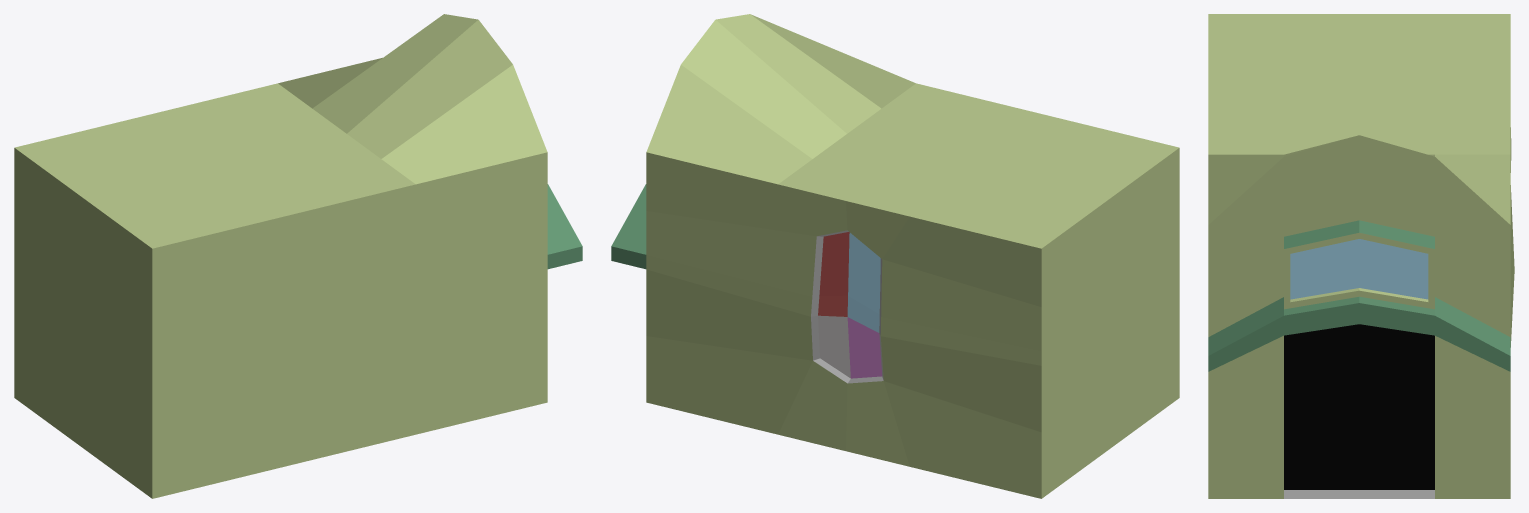
Rendered from 16_building.fbx.
The picture shows the model from 3 angles, left to right: view 1: azimuth 30°, elevation 25°; view 2: azimuth 150°, elevation 25°; view 3: azimuth 270°, elevation 25°; orthographic projection. The views are drawn at different scales.
Parts seen in each view (by area): view 1: 16_building; view 2: 16_building; view 3: 16_building.
Part boxes in pixels (bbox=[...]): 16_building: bbox=[14, 14, 582, 498]; 16_building: bbox=[611, 14, 1179, 498]; 16_building: bbox=[1208, 14, 1514, 498].
Bounding box in the file's own units: 1622 × 1197 × 914.
